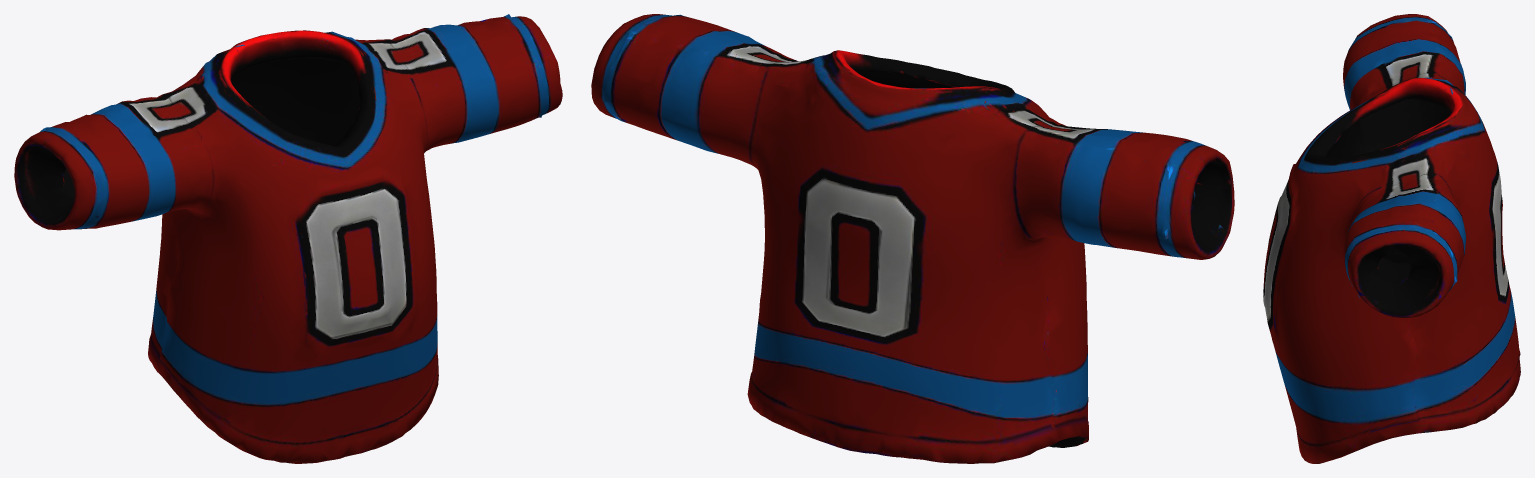
File: Hockey-Red-Blue.glb
3 views of the same model, side by side, from view 1: azimuth 30°, elevation 25°; view 2: azimuth 150°, elevation 25°; view 3: azimuth 270°, elevation 25° (orthographic). The views are drawn at different scales.
Visible parts, largest first — view 1: Hockey-Red-Blue; view 2: Hockey-Red-Blue; view 3: Hockey-Red-Blue.
Boxes of the visible parts, left/top/right/bottom form: Hockey-Red-Blue: left=14, top=14, right=562, bottom=463; Hockey-Red-Blue: left=591, top=14, right=1234, bottom=463; Hockey-Red-Blue: left=1263, top=14, right=1520, bottom=463.
Bounding box in the file's own units: 0.7278 × 0.4861 × 0.3372.
1 material, 1 textured.
